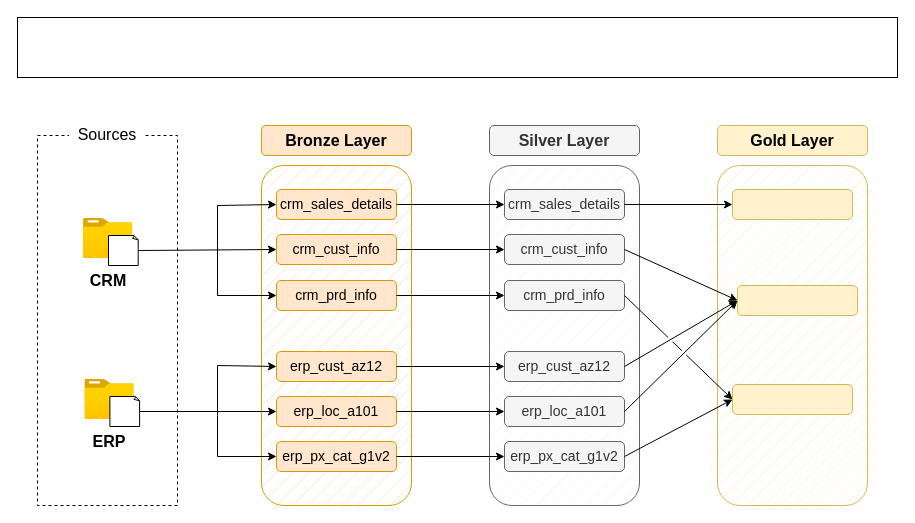
Image size: 915x523. Some labels were removed from this diagram. The shapes that lost their labels are listed below. From the top down, each one's centre as x and y in pixels, then its label:
At point (457, 47): "Data Flow Digram".
At point (792, 204): "fact_sales".
At point (797, 300): "dim_customers".
At point (792, 399): "dim_products".
